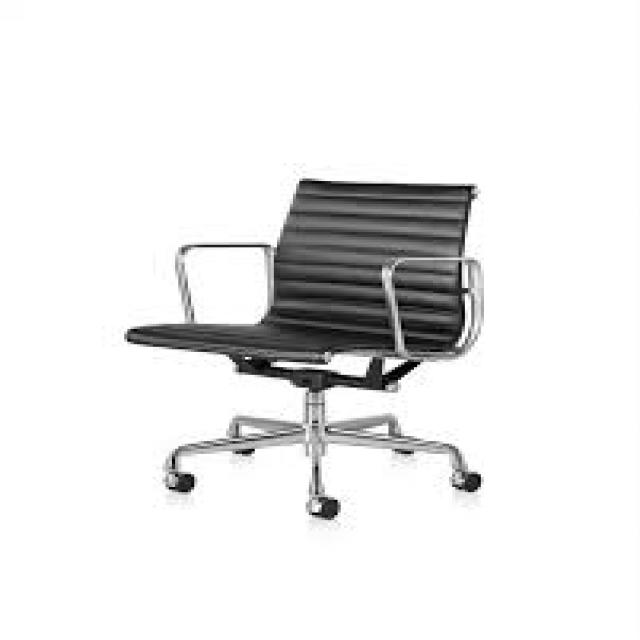chair: (64, 129, 586, 571)
